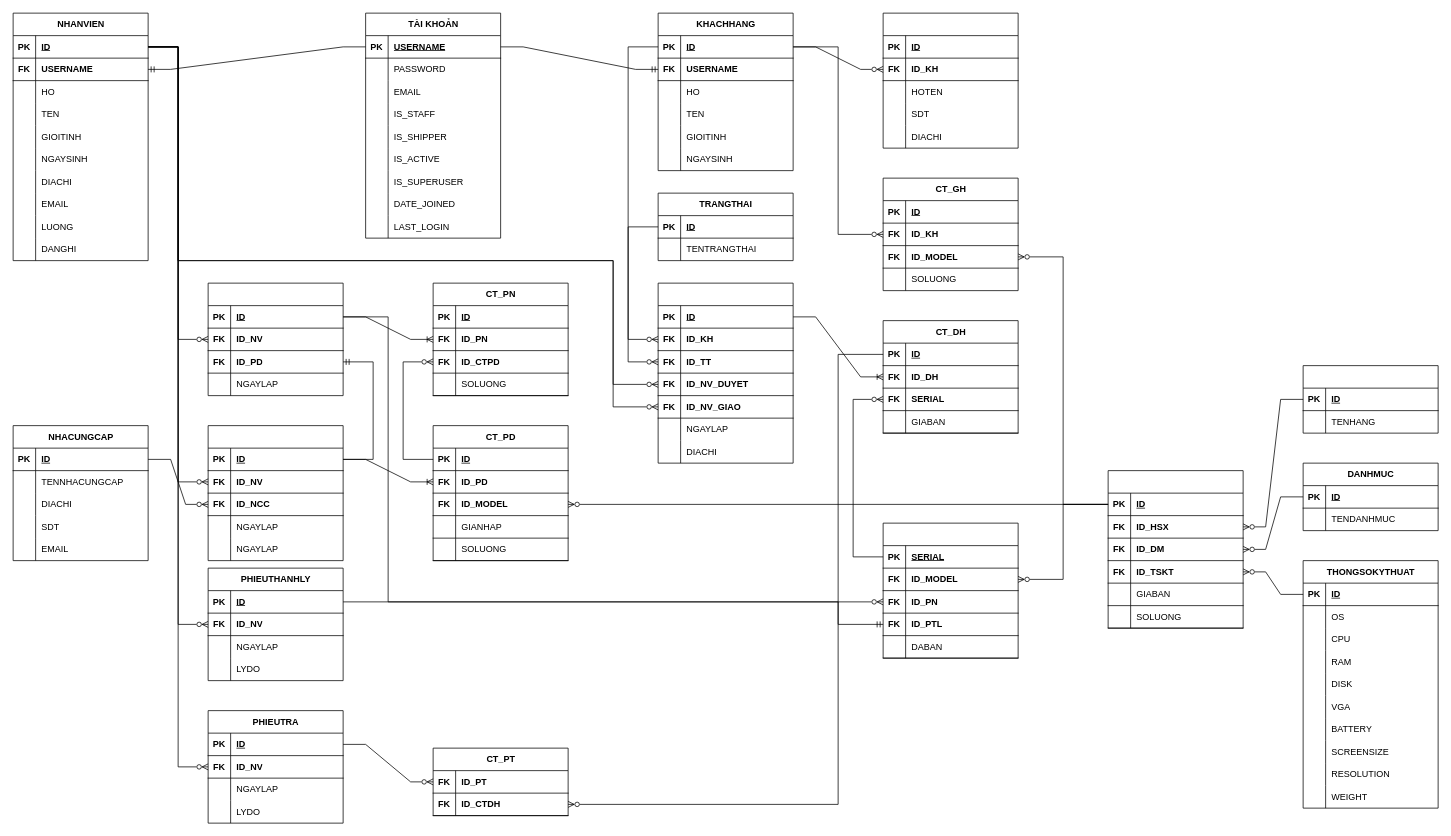
The diagram is 1451 pixels wide and 836 high, and some of its shapes have lost their labels. Each missing label, with the box of its shape:
DIACHIGIAOHANG: (882, 12, 1018, 148)
DONHANG: (657, 282, 793, 463)
HANGSANXUAT: (1302, 365, 1438, 433)
LAPTOP: (882, 522, 1018, 658)
MODEL: (1107, 470, 1243, 628)
PHIEUDAT: (207, 425, 343, 561)
PHIEUNHAP: (207, 282, 343, 396)
